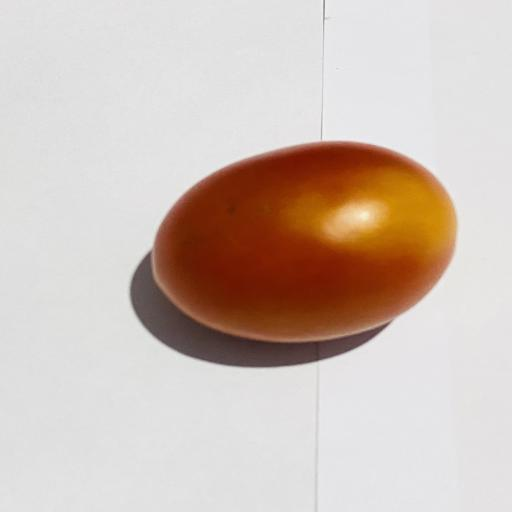ripe: (152, 142, 457, 342)
